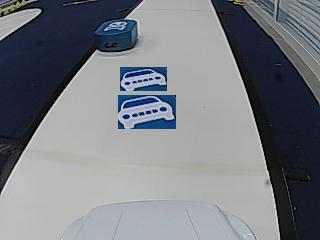danger: (104, 20, 127, 30)
